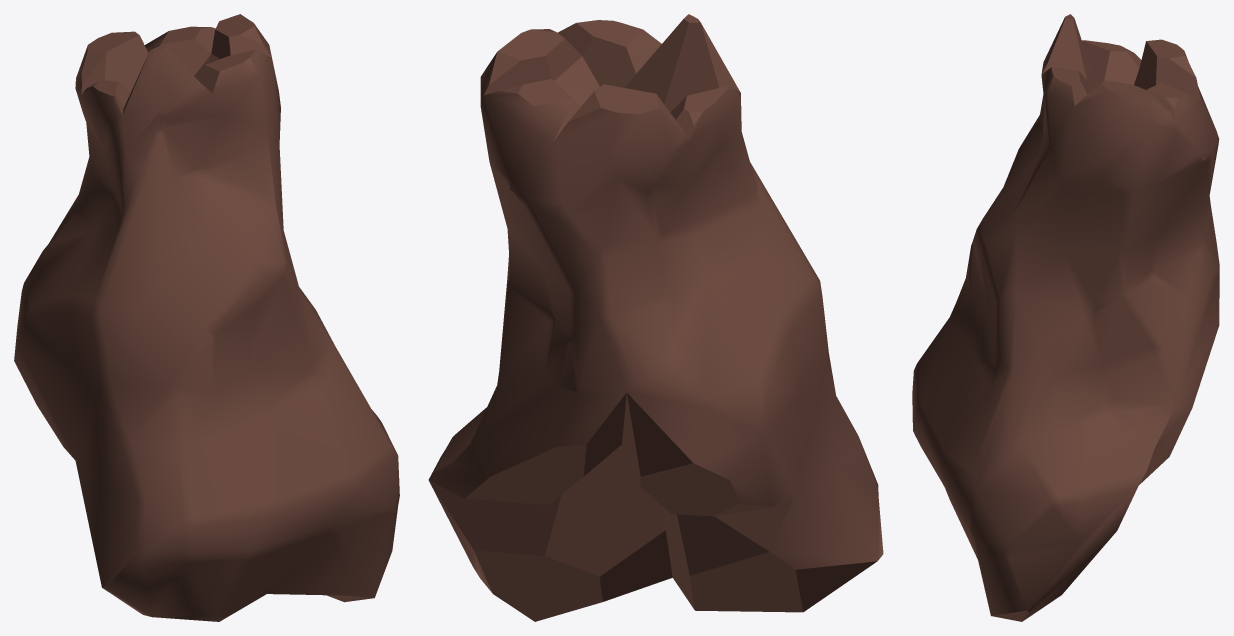
The model's file is p_mesh_hvs_stalagmite_large_destruction_part09.fbx.
3 renders of one model, left to right at view 1: azimuth 30°, elevation 25°; view 2: azimuth 150°, elevation 25°; view 3: azimuth 270°, elevation 25°, orthographic. The views are drawn at different scales.
Parts seen in each view (by area): view 1: p_large_part9; view 2: p_large_part9; view 3: p_large_part9.
Boxes of the visible parts, x1,y1,x2,y2 form: p_large_part9: [14, 14, 399, 621]; p_large_part9: [428, 14, 883, 621]; p_large_part9: [912, 14, 1219, 621].
Size of the model in its own units: 5.59 by 9.51 by 4.96.
